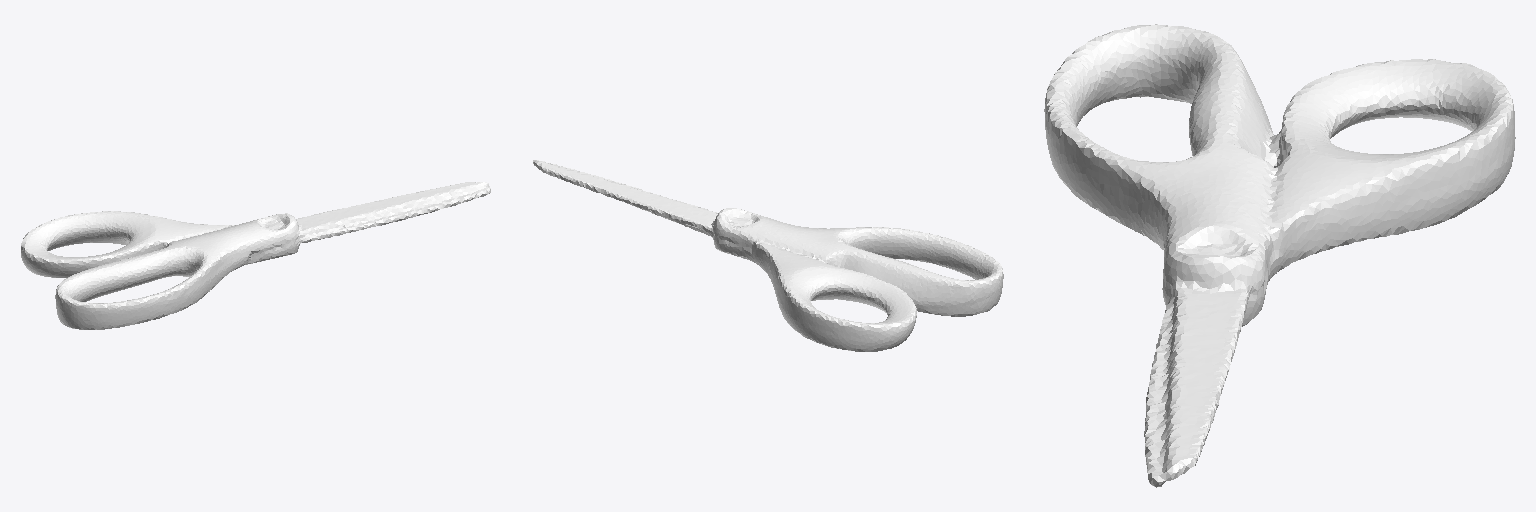
robot.urdf — model.urdf:
<?xml version="0.0" ?>
<robot name="model.urdf">
  <link name="baseLink">
    <contact>
      <friction_anchor/>
      <lateral_friction value="0.8"/>
      <rolling_friction value="0.0"/>
      <contact_cfm value="0.0"/>
      <contact_erp value="1.0"/>
    </contact>
    <inertial>
       <origin rpy="0 0 0." xyz="0.0 -0.005 0.1"/>
       <mass value=".082"/>
       <inertia ixx="1e-3" ixy="0" ixz="0" iyy="1e-3" iyz="0" izz="1e-3"/>
    </inertial>
    <visual>
      <geometry>
        <mesh filename="textured_simple_reoriented.obj" scale="1 1 1"/>
      </geometry>
      <material name="white">
        <color rgba="1. 1. 1. 1."/>
      </material>
    </visual>
    <collision>
      <geometry>
    	 	<mesh filename="collision_vhacd.obj" scale="1 1 1"/>
      </geometry>
    </collision>
  </link>
</robot>

--- Render facts (derived) ---
3 views of the same robot in one strip: view 1: azimuth 30°, elevation 25°; view 2: azimuth 150°, elevation 25°; view 3: azimuth 270°, elevation 25° (orthographic).
Robot: model.urdf — 1 links, 0 joints (none); root link baseLink; default pose: every joint at zero.
Visible links, largest first — view 1: baseLink; view 2: baseLink; view 3: baseLink.
Link boxes in pixels (box(x1,y1,x2,y2)): baseLink: box(21, 182, 490, 329); baseLink: box(533, 160, 1003, 351); baseLink: box(1044, 24, 1515, 487).
Bounding box of the posed robot: 0.2039 × 0.0872 × 0.0195 m (x, y, z).
Meshes: 1 distinct files referenced, 1 mesh visuals loaded (1 OBJ).